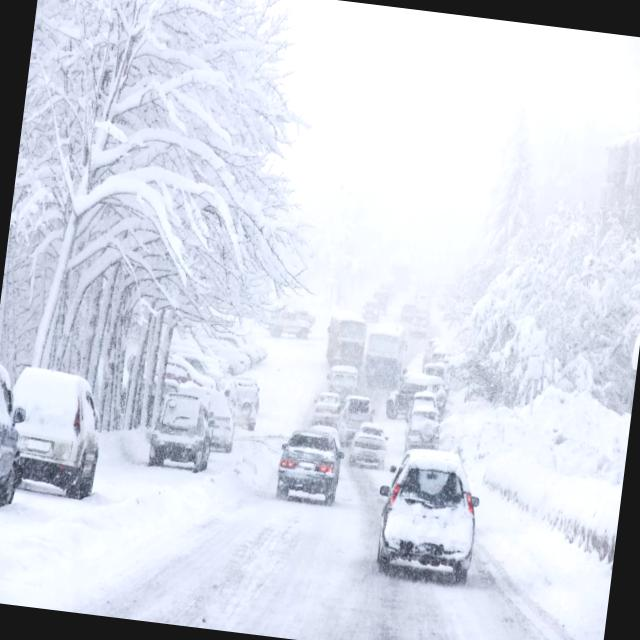Vehicle: (378, 442, 488, 586), (5, 360, 110, 494), (144, 381, 218, 475), (268, 427, 348, 511), (346, 420, 388, 472), (228, 371, 266, 427), (342, 388, 384, 428), (308, 381, 342, 425), (406, 402, 444, 440)
